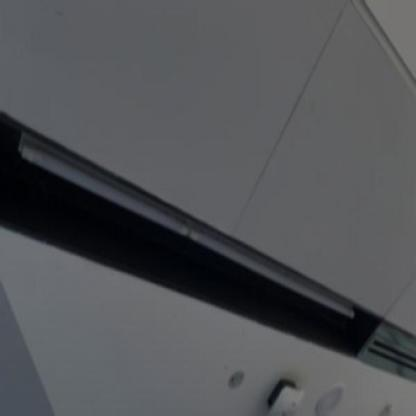light_off: (11, 109, 360, 340)
